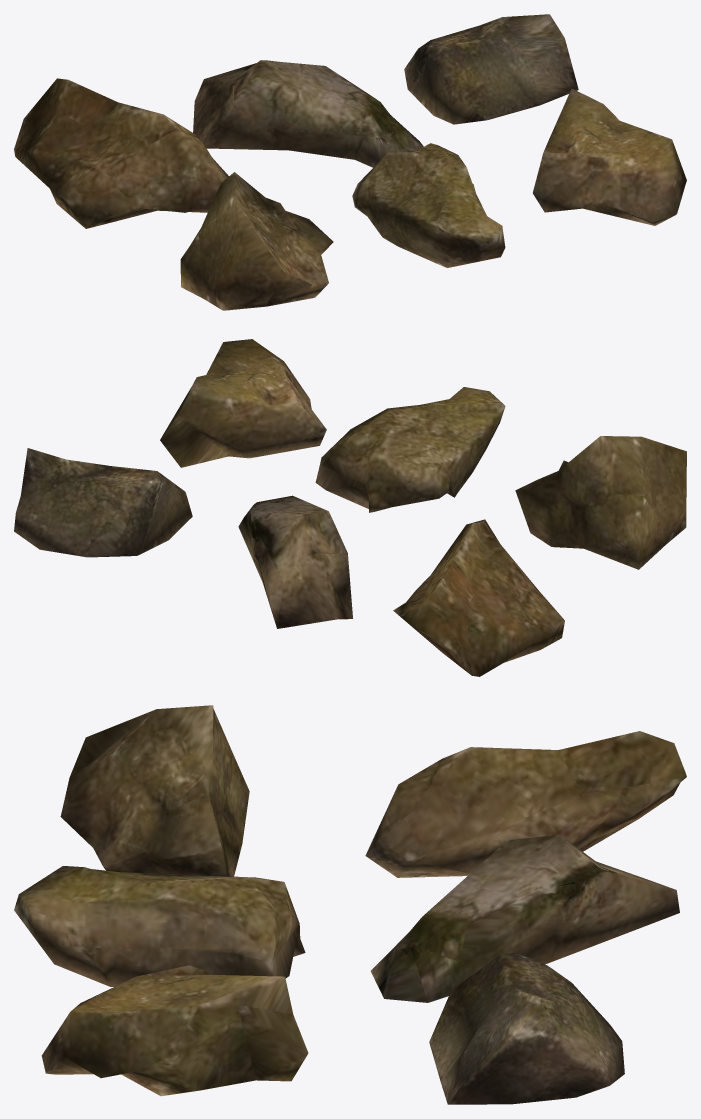
File: rock_moss_set_01.glb
3 views of the same model, one above another, from view 1: azimuth 30°, elevation 25°; view 2: azimuth 150°, elevation 25°; view 3: azimuth 270°, elevation 25° (orthographic). The views are drawn at different scales.
Visible parts, largest first — view 1: rock_moss_set_01_rock01, rock_moss_set_01_rock02, rock_moss_set_01_rock04, rock_moss_set_01_rock03, rock_moss_set_01_rock06, rock_moss_set_01_rock05; view 2: rock_moss_set_01_rock04, rock_moss_set_01_rock05, rock_moss_set_01_rock01, rock_moss_set_01_rock03, rock_moss_set_01_rock06, rock_moss_set_01_rock02; view 3: rock_moss_set_01_rock01, rock_moss_set_01_rock05, rock_moss_set_01_rock02, rock_moss_set_01_rock04, rock_moss_set_01_rock06, rock_moss_set_01_rock03.
Boxes of the visible parts, x1,y1,x2,y2 form: rock_moss_set_01_rock01: [14, 78, 228, 228]; rock_moss_set_01_rock02: [193, 60, 423, 167]; rock_moss_set_01_rock04: [180, 172, 333, 310]; rock_moss_set_01_rock03: [404, 14, 578, 124]; rock_moss_set_01_rock06: [533, 88, 686, 225]; rock_moss_set_01_rock05: [352, 143, 505, 267]; rock_moss_set_01_rock04: [515, 436, 686, 569]; rock_moss_set_01_rock05: [315, 387, 505, 512]; rock_moss_set_01_rock01: [393, 519, 564, 676]; rock_moss_set_01_rock03: [14, 448, 192, 557]; rock_moss_set_01_rock06: [160, 339, 326, 467]; rock_moss_set_01_rock02: [238, 495, 352, 628]; rock_moss_set_01_rock01: [365, 731, 686, 877]; rock_moss_set_01_rock05: [14, 866, 305, 986]; rock_moss_set_01_rock02: [370, 834, 679, 1002]; rock_moss_set_01_rock04: [60, 705, 249, 876]; rock_moss_set_01_rock06: [41, 965, 308, 1096]; rock_moss_set_01_rock03: [429, 953, 624, 1104].
Bounding box in the file's own units: 7.94 × 1.75 × 6.87.
1 material, 1 textured.
